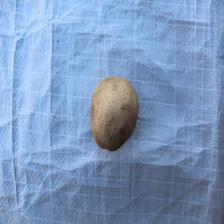Diseased-fungal potato: (89, 76, 140, 152)
